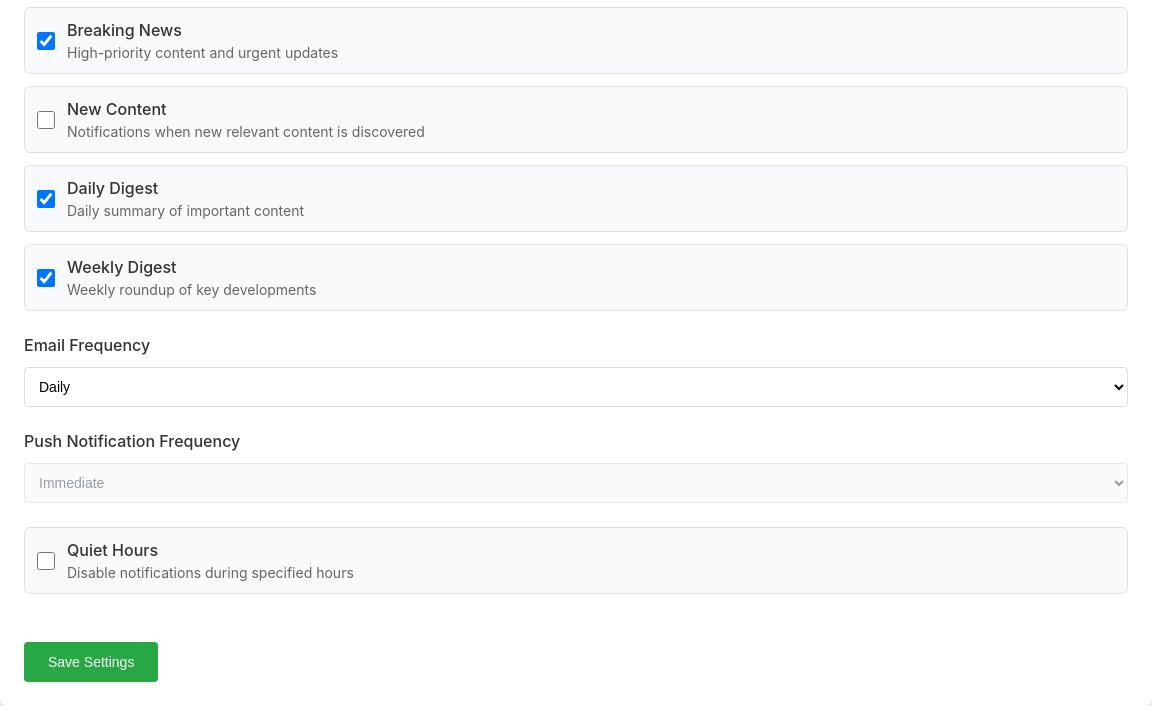
Test: NotificationSettings Component › shows error message when save fails
(page scrolled)
Click the button "Save Settings" at (91, 662), box [24, 642, 158, 682]
(page scrolled)
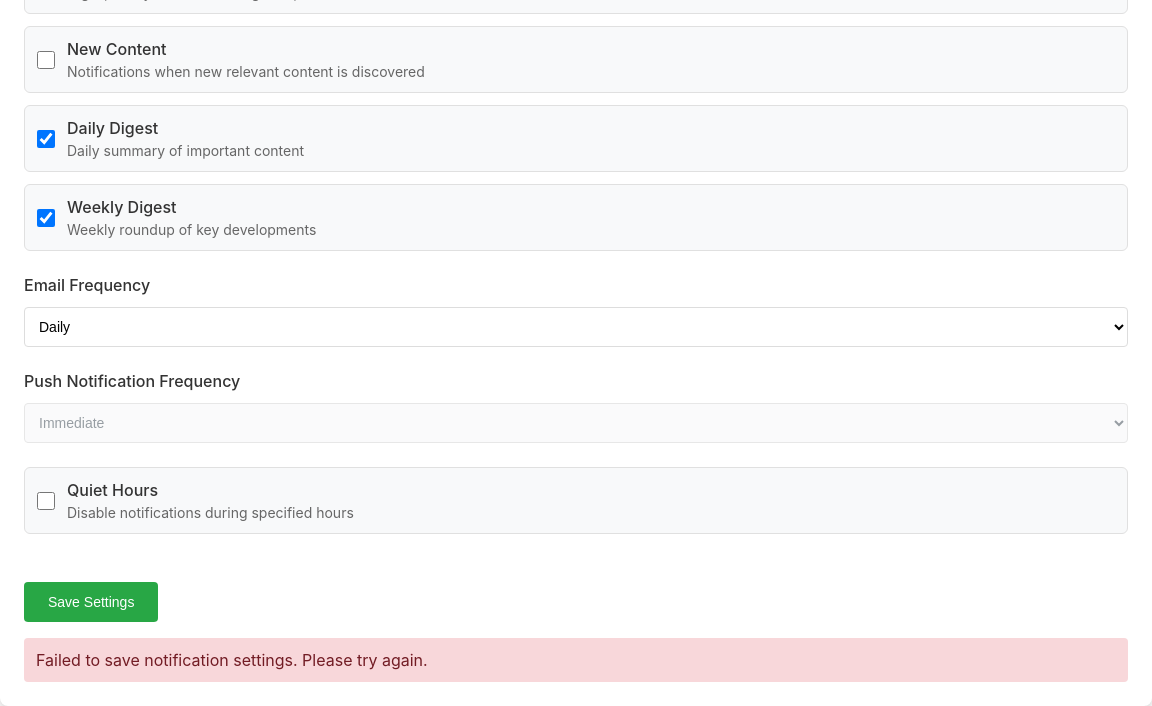
Check: the text "Failed to save notification settings. Please try again." is shown, box [24, 638, 1128, 682]
